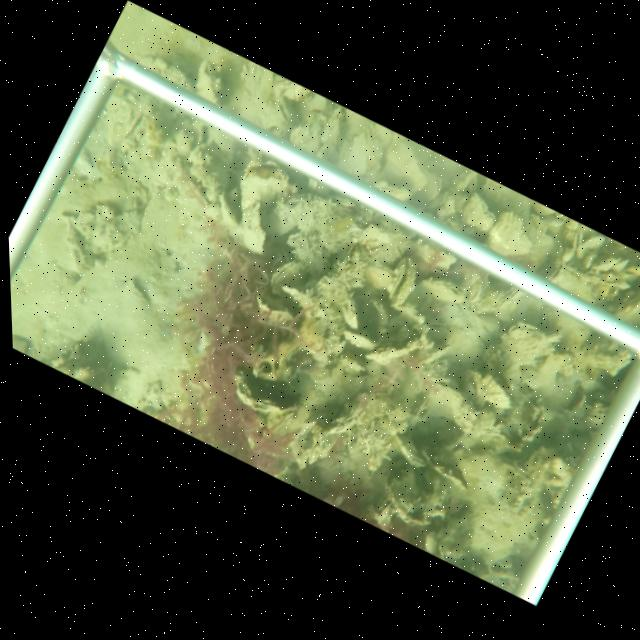Oyster-Closed: (476, 282, 526, 316), (463, 191, 494, 233), (394, 435, 430, 469), (419, 280, 464, 307), (196, 61, 222, 104), (324, 407, 358, 436), (269, 259, 302, 286), (218, 191, 238, 229), (452, 168, 479, 192), (582, 253, 596, 270), (227, 186, 239, 203)
Oyster-Indeterminate: (421, 385, 481, 436), (381, 138, 430, 194), (486, 210, 534, 259), (575, 234, 605, 260)
Oyster-Open: (388, 252, 419, 308), (271, 95, 297, 126), (547, 257, 567, 282), (573, 231, 583, 253)
